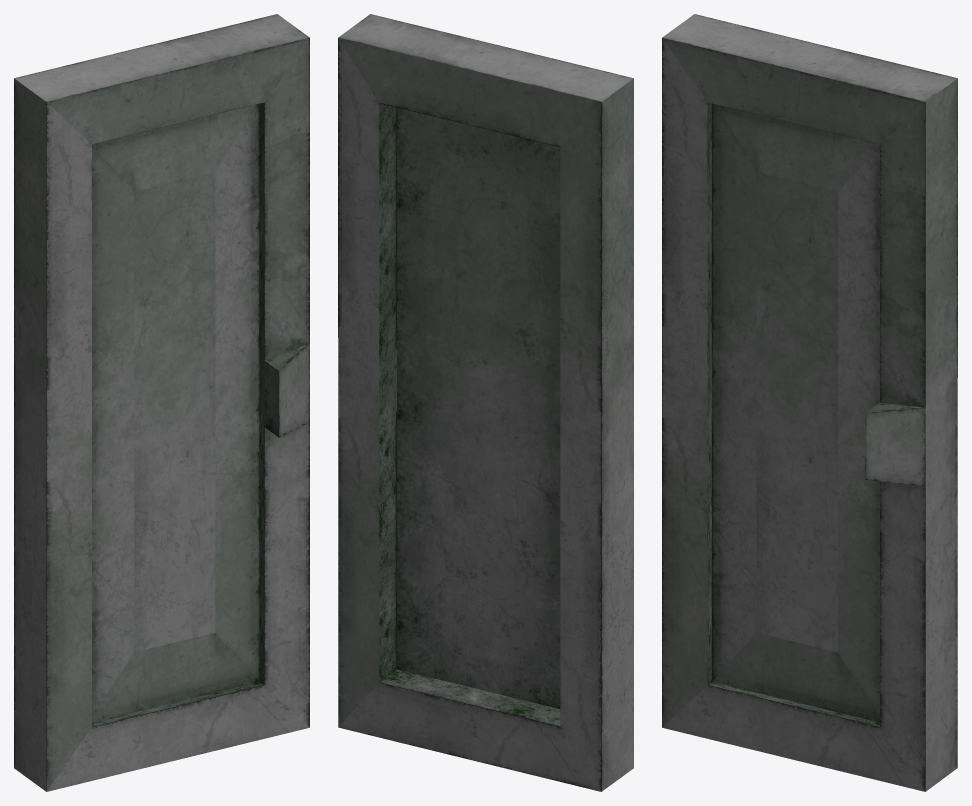
File: DoorTX.fbx
3 renders of one model, left to right at view 1: azimuth 30°, elevation 25°; view 2: azimuth 150°, elevation 25°; view 3: azimuth 330°, elevation 25°, orthographic.
Parts seen in each view (by area): view 1: pCube26; view 2: pCube26; view 3: pCube26.
Part boxes in pixels (<box>): pCube26: <box>14,14,309,791</box>; pCube26: <box>338,14,633,791</box>; pCube26: <box>662,14,957,791</box>.
Bounding box in the file's own units: 2 × 5 × 0.6195.
